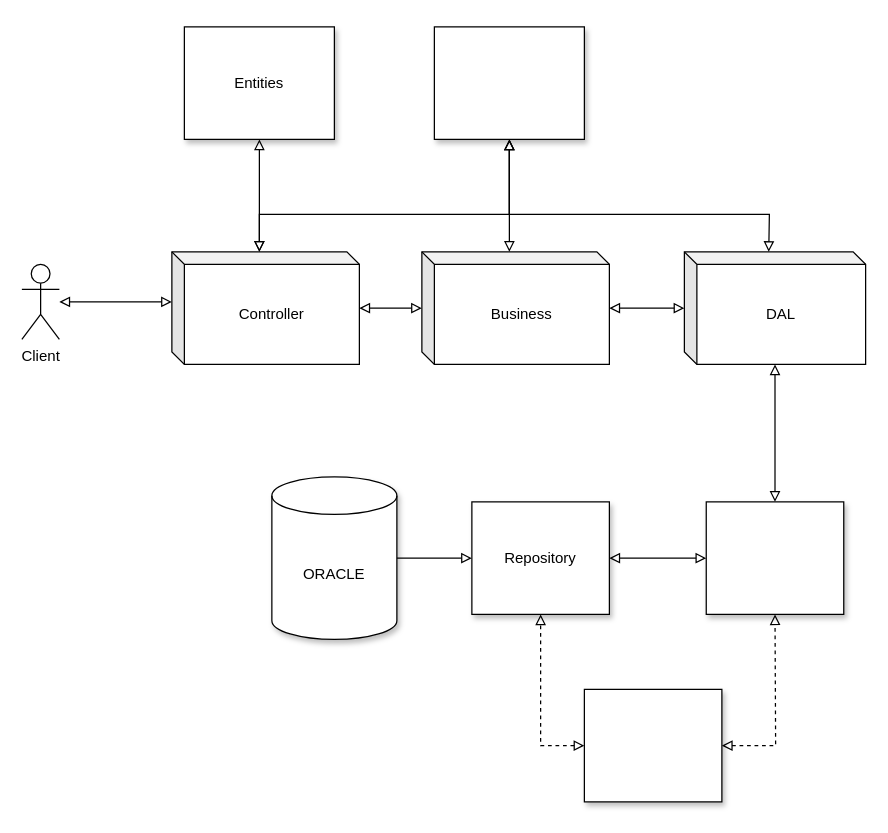
The diagram is 888 pixels wide and 833 high, and some of its shapes have lost their labels. Each missing label, with the centre of its shape:
Helpers: point (510, 84)
Model: point (653, 747)
Service: point (775, 559)
